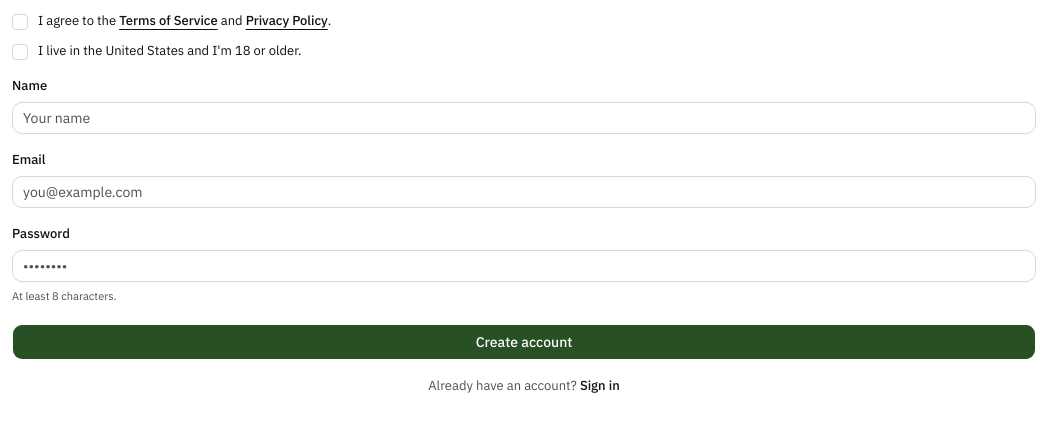
Test: hosted sign-up clickwrap › refuses to create an account until both statements are accepted
In the field labelled "Email": (524, 192) [12,176,1036,208], type "new@example.com"
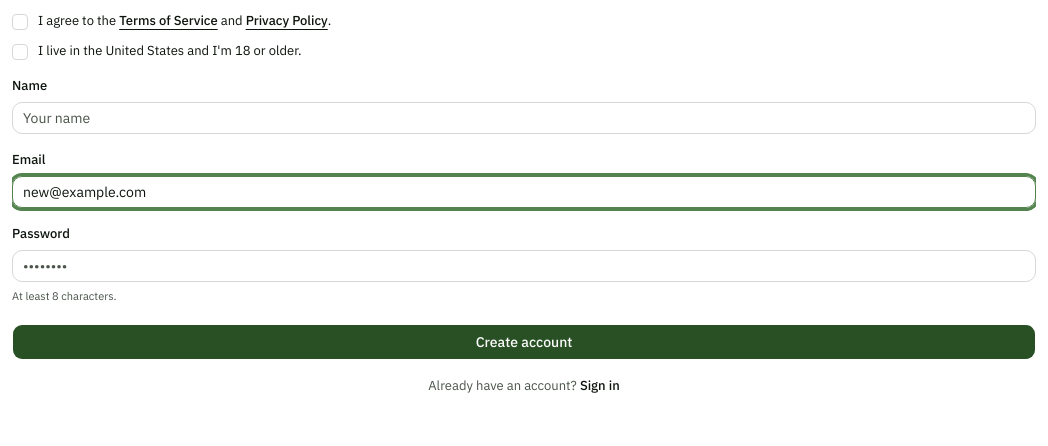
In the password field labelled "Password": (524, 266) [12,250,1036,282], type "a-long-password"
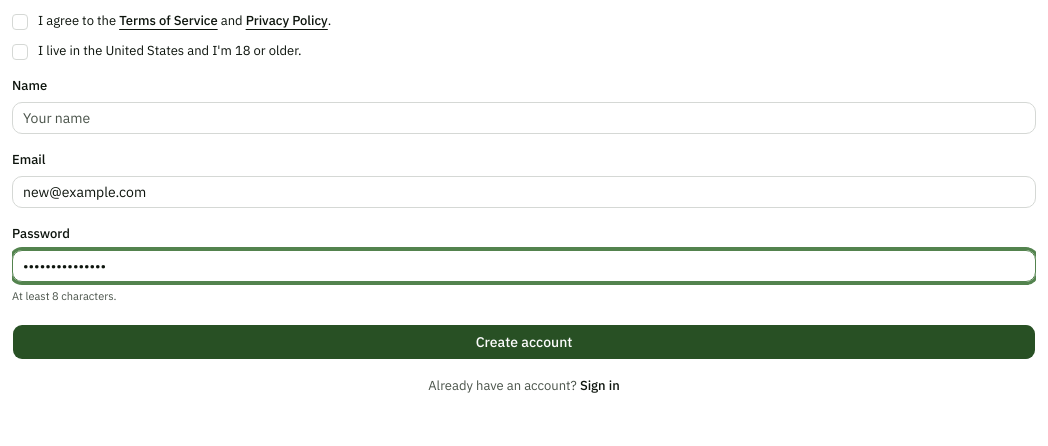
Click the checkbox named "I agree to the" next to "I agree to the": (20, 22) [12,14,28,30]
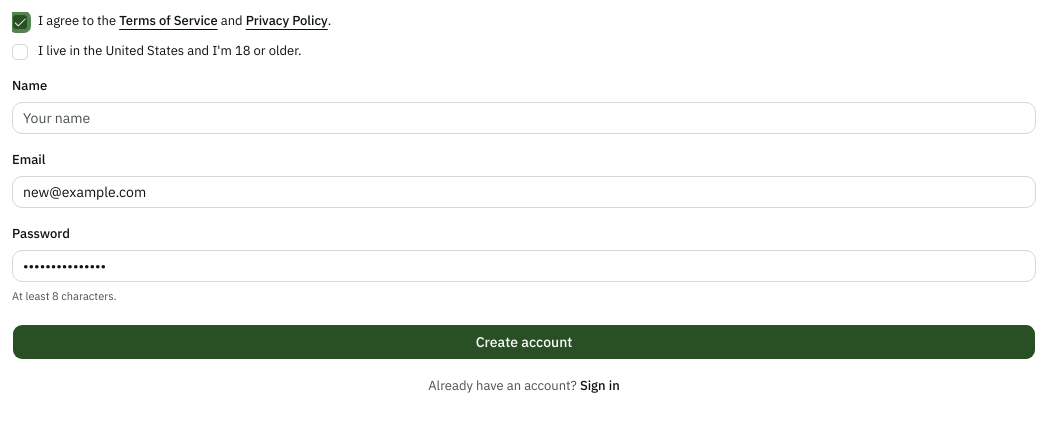
Click the button "Create account": (524, 342) [12,324,1036,360]
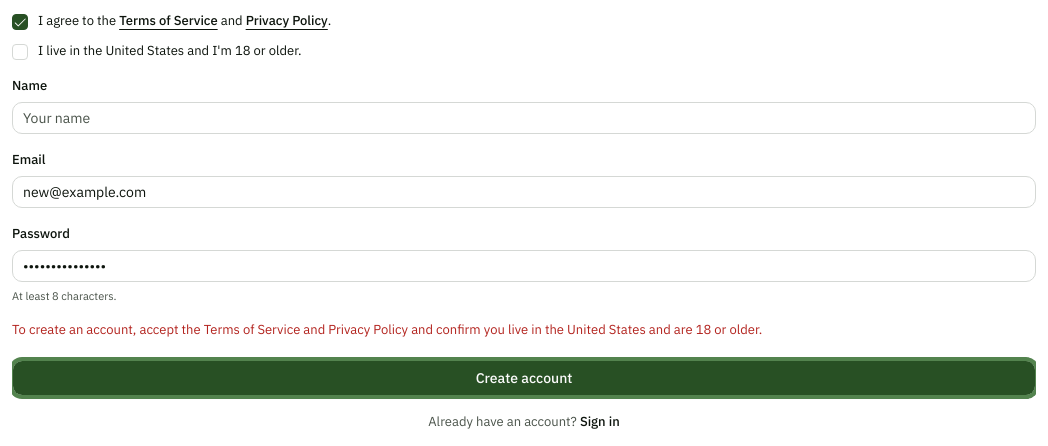
Result: the message shows "18 or older" at [12,321,762,338]
